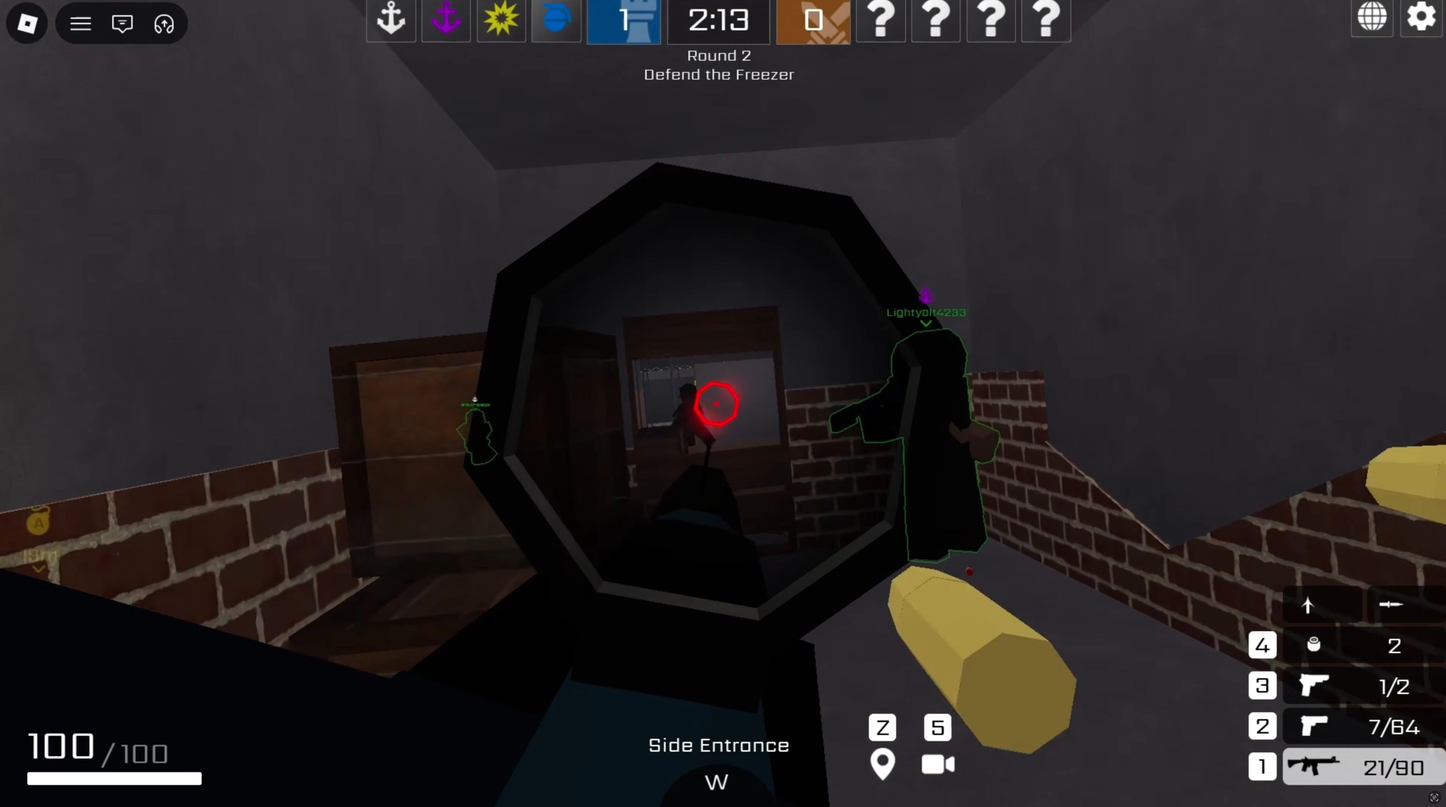enemy: (670, 382, 719, 455)
